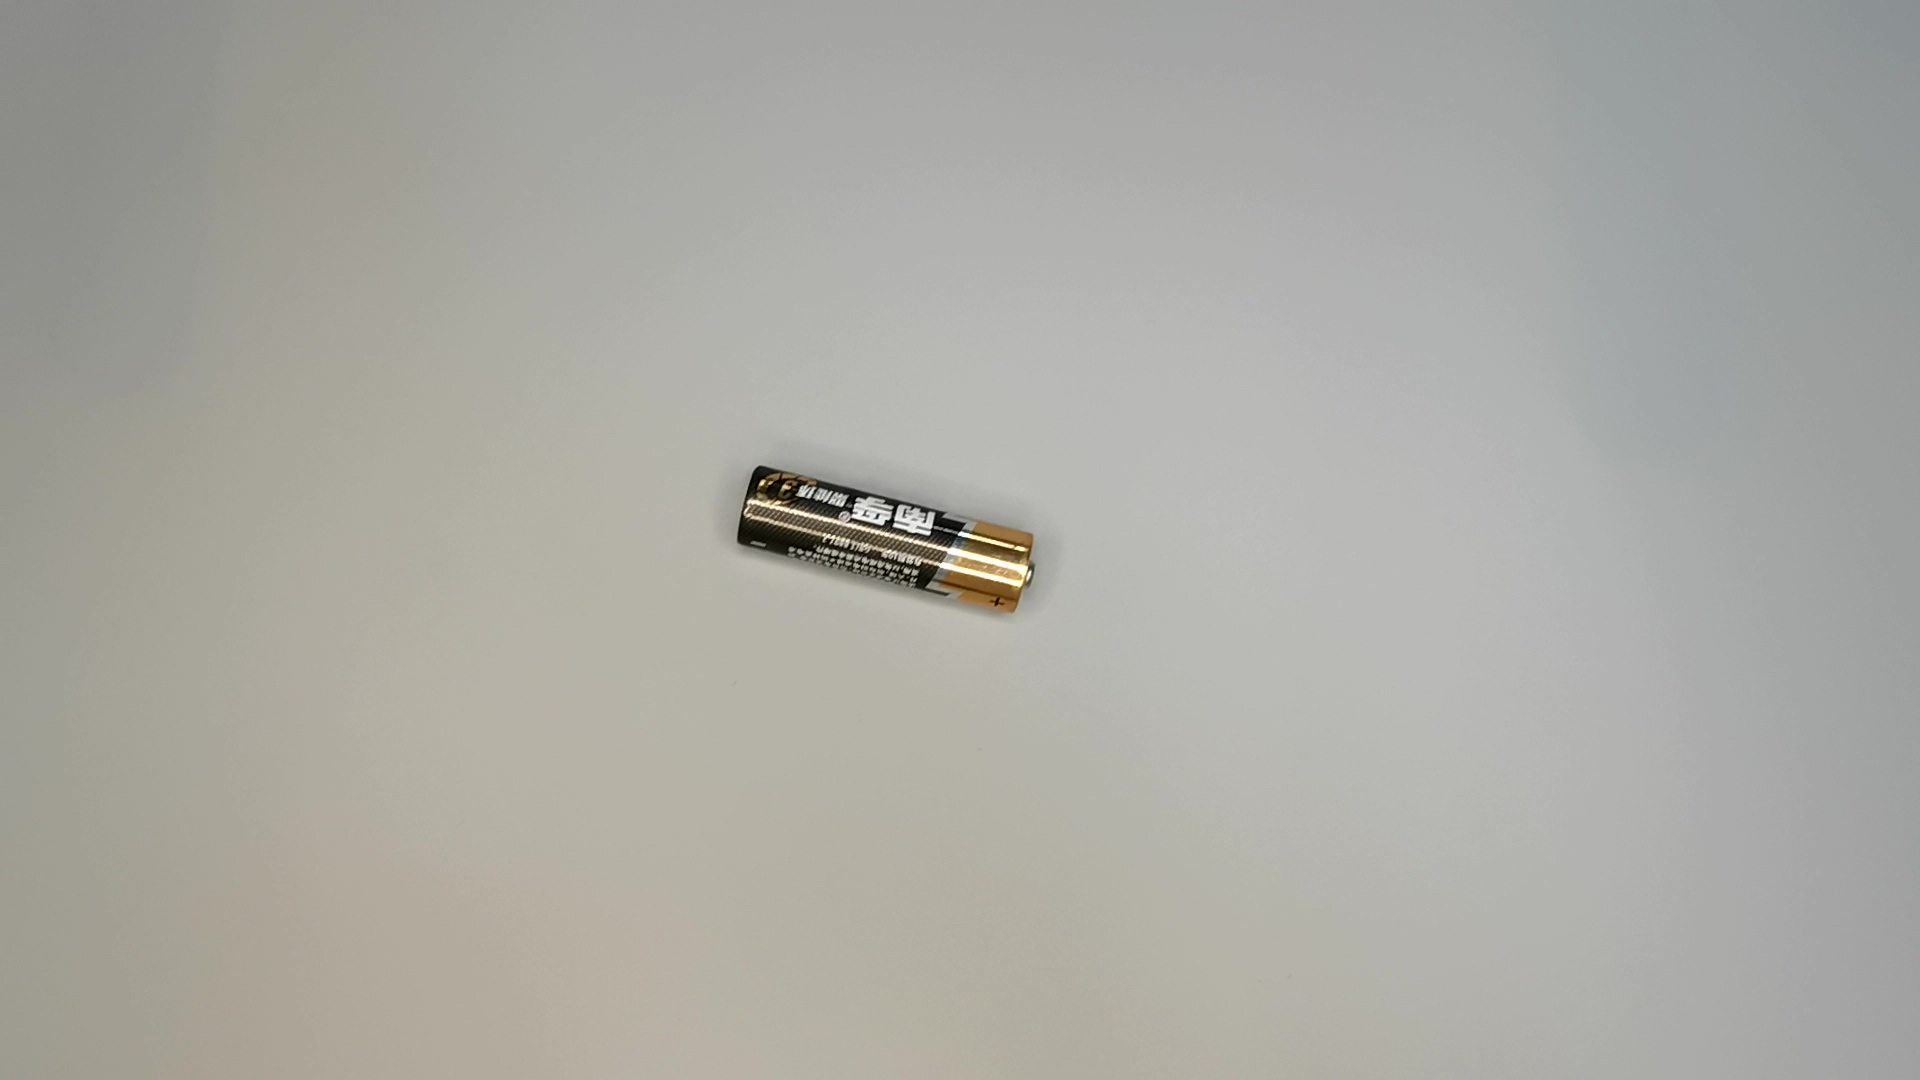battery: (733, 458, 1051, 620)
